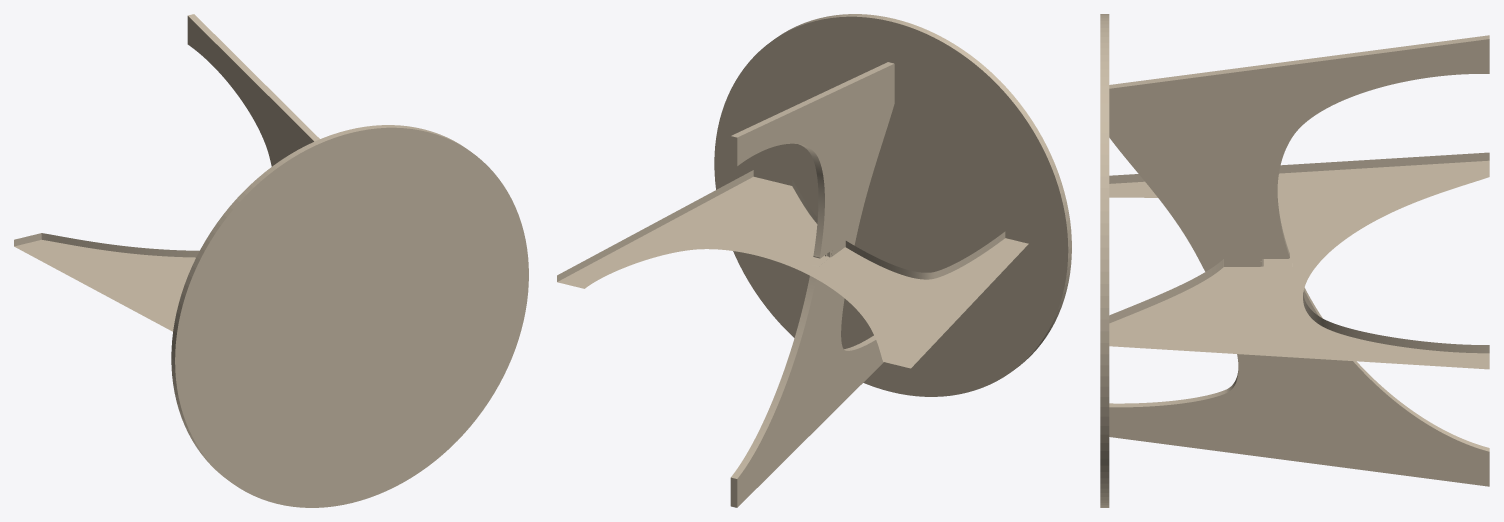
File: NODO_MESA_REDONDA_CRUZ_CUARZO_V1_NUEVO.glb
3 views of the same model, side by side, from view 1: azimuth 30°, elevation 25°; view 2: azimuth 150°, elevation 25°; view 3: azimuth 270°, elevation 25° (orthographic). The views are drawn at different scales.
Visible parts, largest first — view 1: Tapa_D1000, Pata_A, Pata_B; view 2: Tapa_D1000, Pata_B, Pata_A; view 3: Pata_B, Pata_A, Tapa_D1000.
Part boxes in pixels (x1,y1,x2,y2): Tapa_D1000: (171,125,528,507); Pata_A: (14,233,199,331); Pata_B: (187,14,319,166); Tapa_D1000: (714,14,1071,396); Pata_B: (730,62,894,507); Pata_A: (557,170,1028,368); Pata_B: (1109,35,1489,486); Pata_A: (1109,152,1489,369); Tapa_D1000: (1100,14,1109,507).
Size of the model in its own units: 1000 by 1000 by 788.
